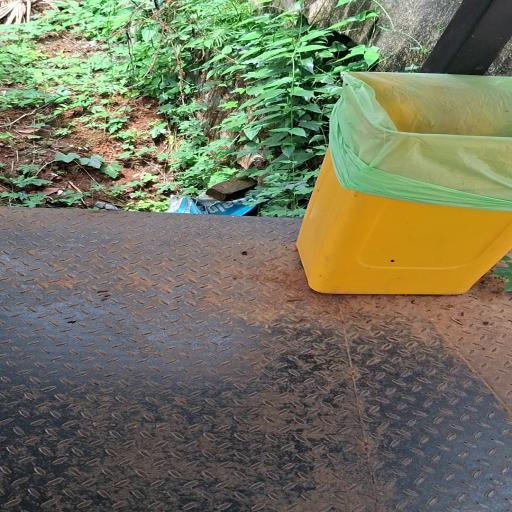Nilkamal-dustbin-detection: (297, 73, 512, 294)
